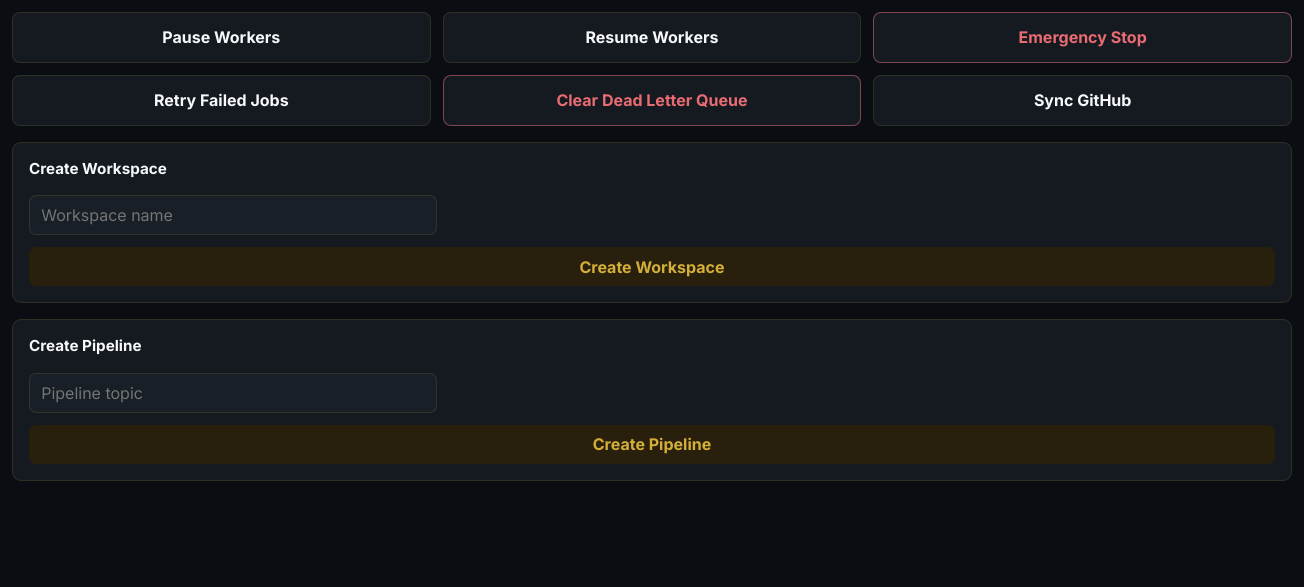
Test case: Mission Control destructive-action interlock › prevents duplicate requests when a quick action is clicked repeatedly
Click the button "Pause Workers": (221, 37) [12,12,431,63]
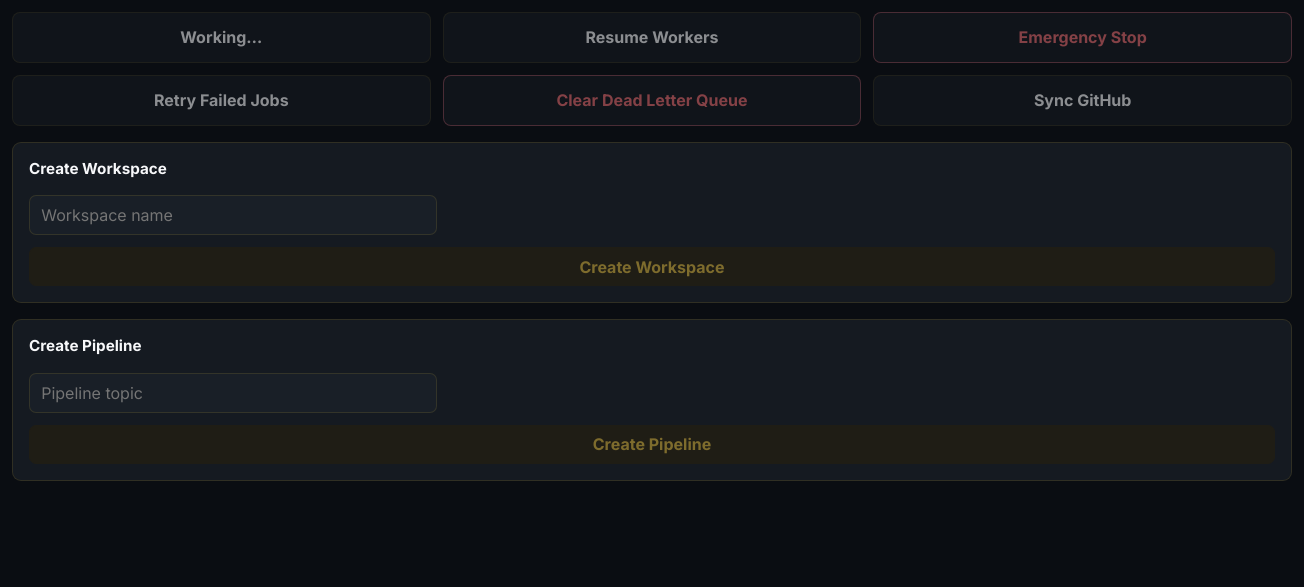
Click the button with aria-label "Pause Workers": (221, 37) [12,12,431,63]
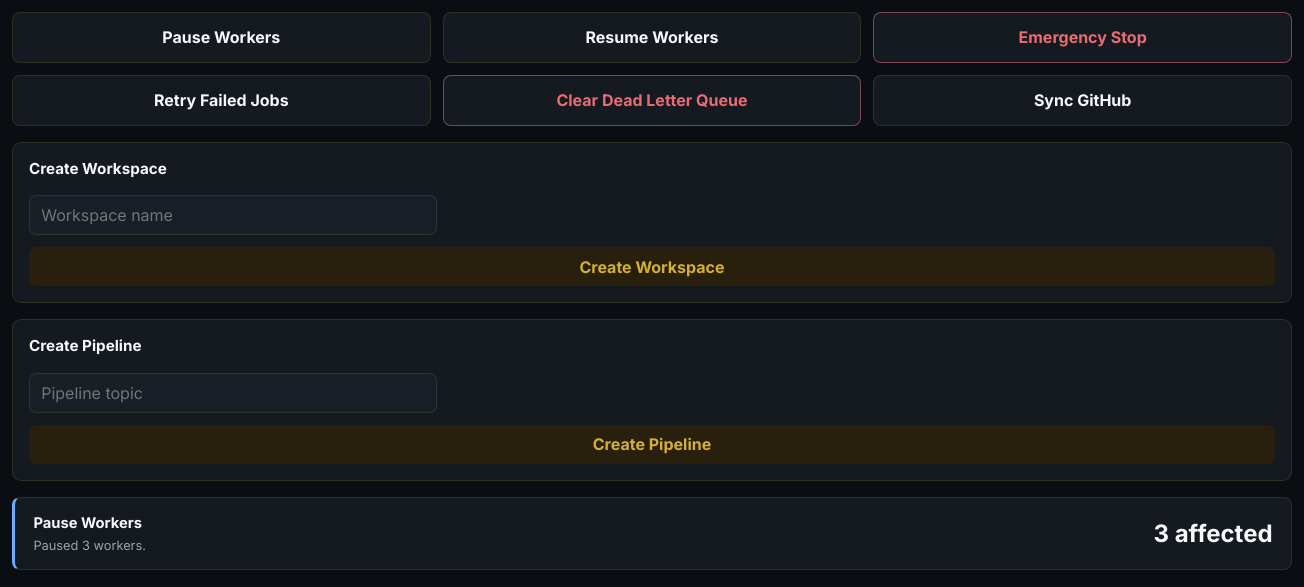
Now the text "Paused 3 workers." is shown, box [33,538,146,553]
Now the text "3 affected" is shown, box [1154,519,1273,548]
